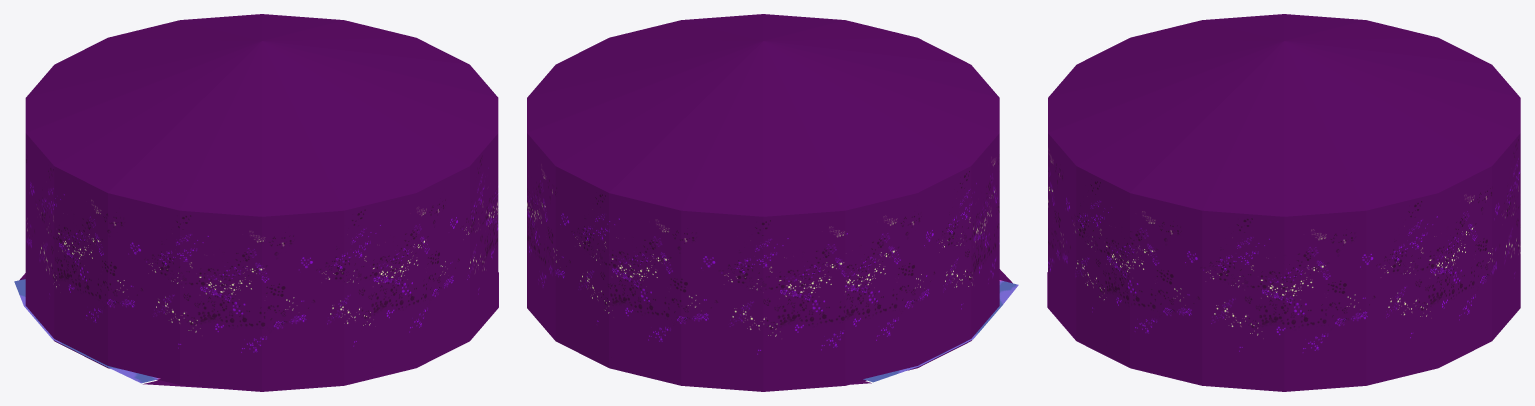
File: LumpySpace.glb
3 renders of one model, left to right at view 1: azimuth 30°, elevation 25°; view 2: azimuth 150°, elevation 25°; view 3: azimuth 270°, elevation 25°, orthographic.
Parts seen in each view (by area): view 1: Lumpyspace_Sky, LumpySpace_Atlas_02; view 2: Lumpyspace_Sky, LumpySpace_Atlas_02; view 3: Lumpyspace_Sky.
Boxes of the visible parts, box(x1,y1,x2,y2) form: Lumpyspace_Sky: box(19, 14, 498, 391); LumpySpace_Atlas_02: box(14, 279, 160, 383); Lumpyspace_Sky: box(527, 14, 1012, 391); LumpySpace_Atlas_02: box(863, 280, 1018, 382); Lumpyspace_Sky: box(1047, 14, 1520, 391).
Size of the model in its own units: 105 by 60.31 by 103.
Materials: 4 (4 with a texture image).
